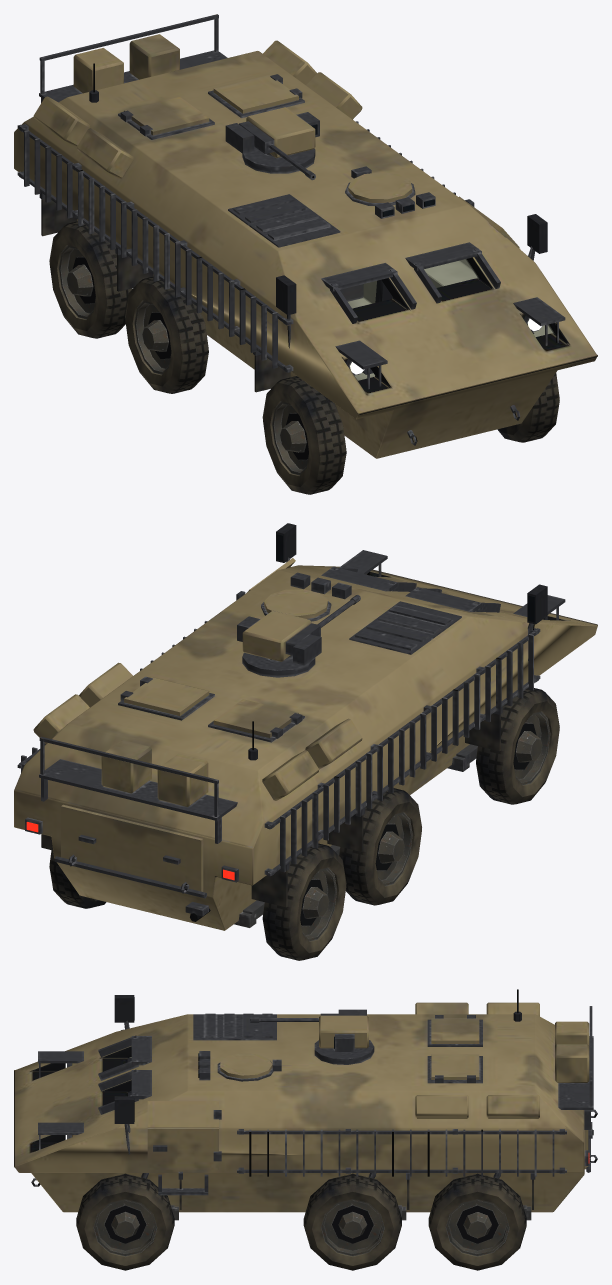
File: apc.glb
3 views of the same model, one above another, from view 1: azimuth 30°, elevation 25°; view 2: azimuth 150°, elevation 25°; view 3: azimuth 270°, elevation 25° (orthographic). The views are drawn at different scales.
Visible parts, largest first — view 1: body, wheel_fl, wheel_ml, wheel_rl, wheel_fr; view 2: body, wheel_rl, wheel_fl, wheel_ml, wheel_rr; view 3: body, wheel_mr, wheel_rr, wheel_fr.
Part boxes in pixels (x1=…): body: x1=14, y1=14, x2=597, y2=458; wheel_fl: x1=262, y1=376, x2=346, y2=494; wheel_ml: x1=125, y1=276, x2=208, y2=393; wheel_rl: x1=49, y1=221, x2=132, y2=338; wheel_fr: x1=497, y1=373, x2=559, y2=442; body: x1=14, y1=523, x2=597, y2=930; wheel_rl: x1=262, y1=843, x2=346, y2=960; wheel_fl: x1=476, y1=688, x2=559, y2=804; wheel_ml: x1=339, y1=788, x2=421, y2=905; wheel_rr: x1=49, y1=850, x2=106, y2=908; body: x1=14, y1=989, x2=597, y2=1220; wheel_mr: x1=303, y1=1173, x2=401, y2=1270; wheel_rr: x1=428, y1=1173, x2=526, y2=1270; wheel_fr: x1=76, y1=1173, x2=174, y2=1270.
Size of the model in its own units: 2.79 by 2.5 by 6.55.
2 materials, 2 textured.
